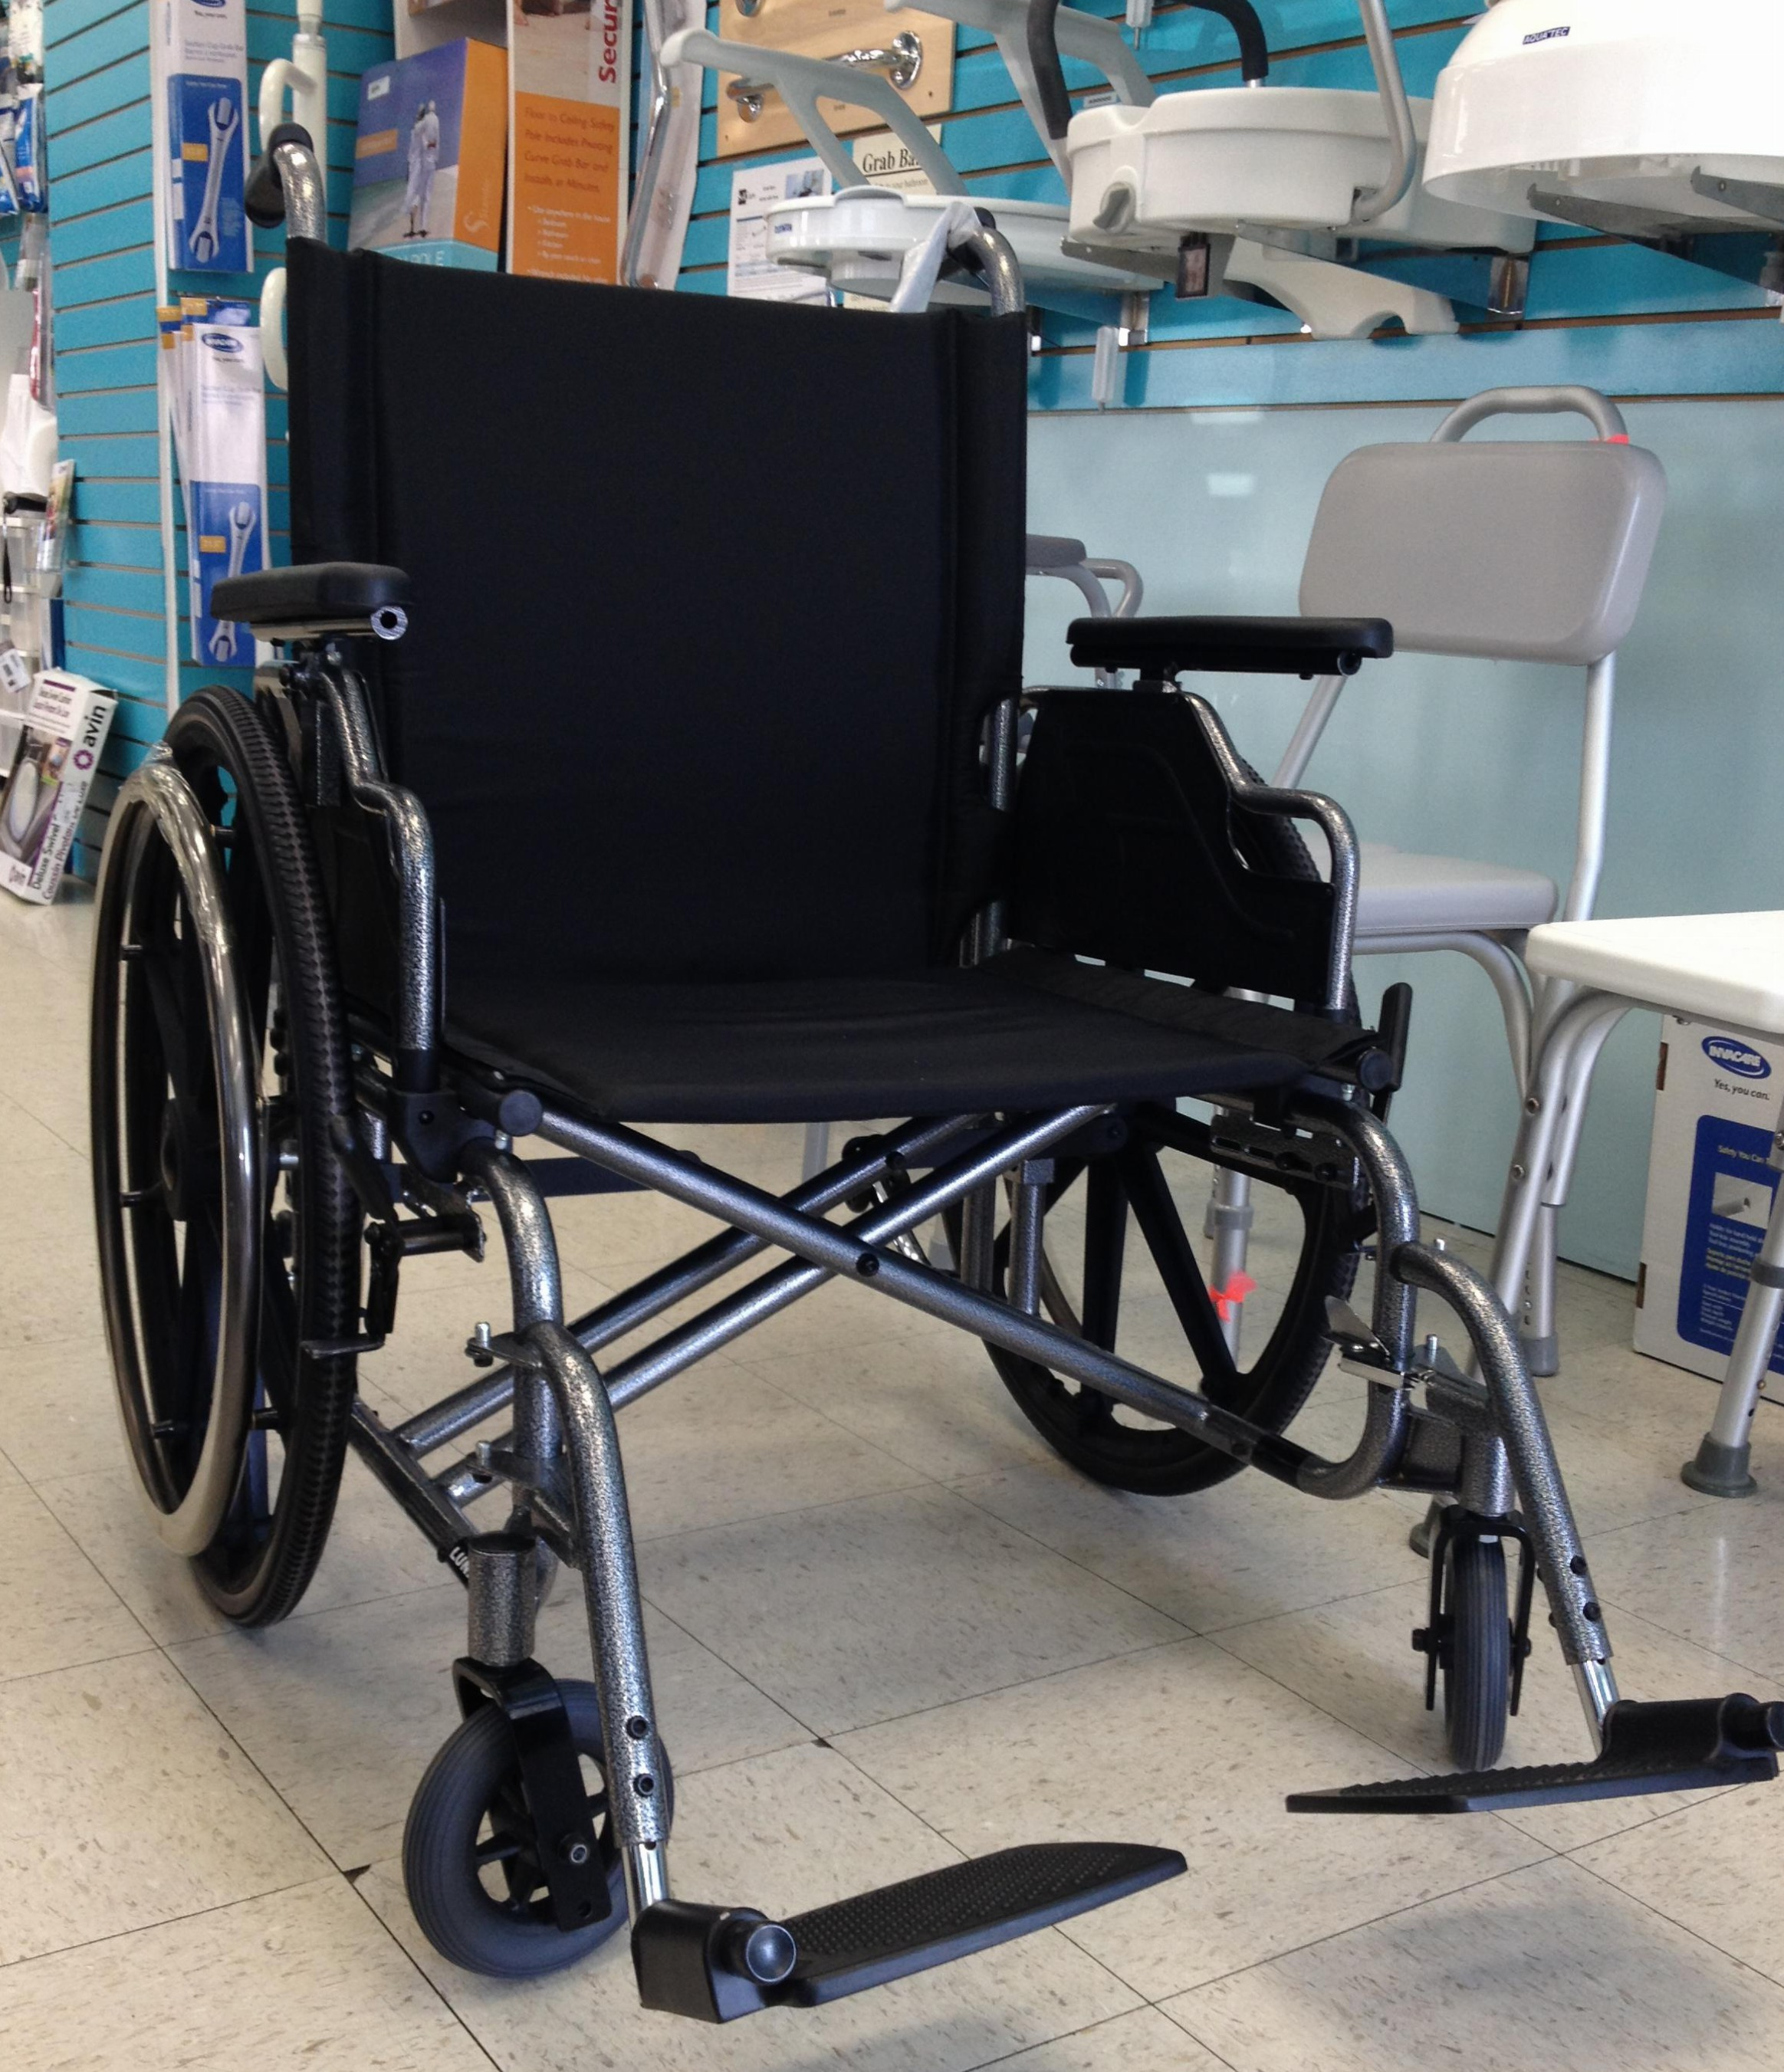wheelchair: (79, 226, 1784, 2051)
